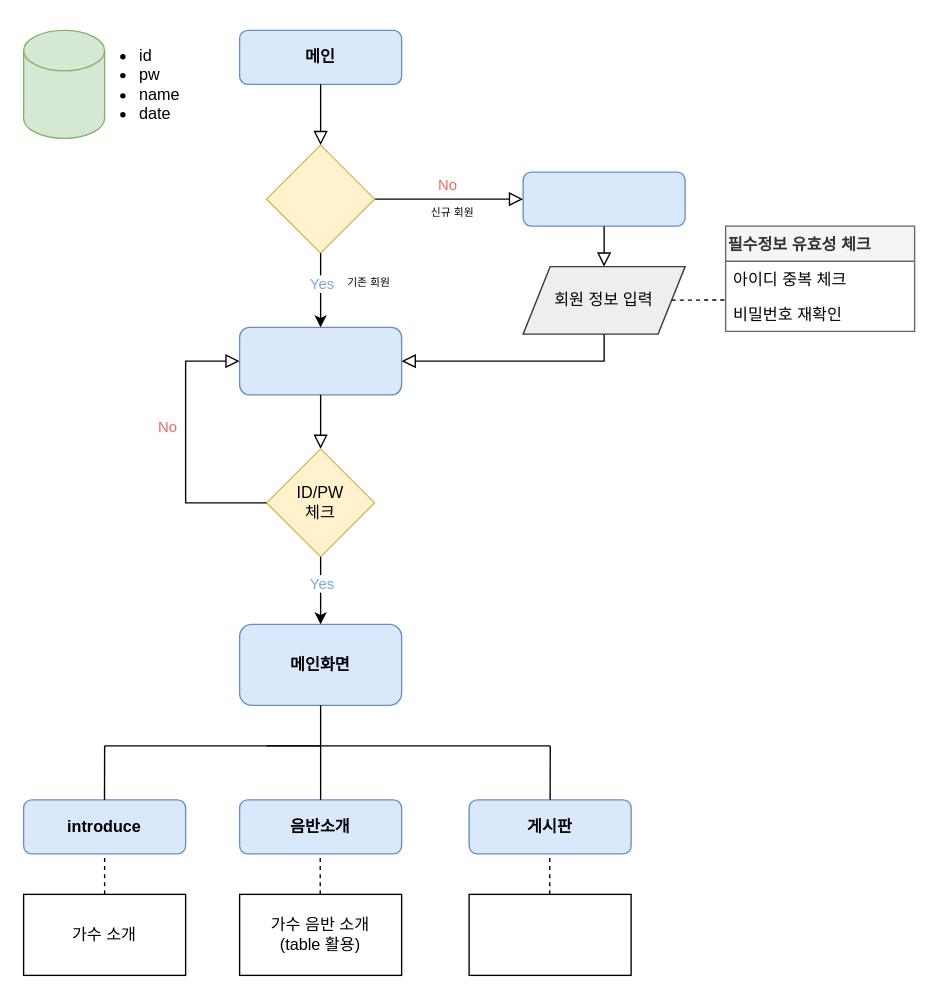
This 938x999 diagram has some shape labels left out. The shapes that lost their labels are listed below. From the top down, each one's centre as x and y in pixels, then its label:
At [63,83]: "Database".
At [320,198]: "회원가입 유무".
At [603,198]: "회원가입".
At [320,360]: "로그인".
At [549,934]: "팬 소통 (커뮤니티)".
